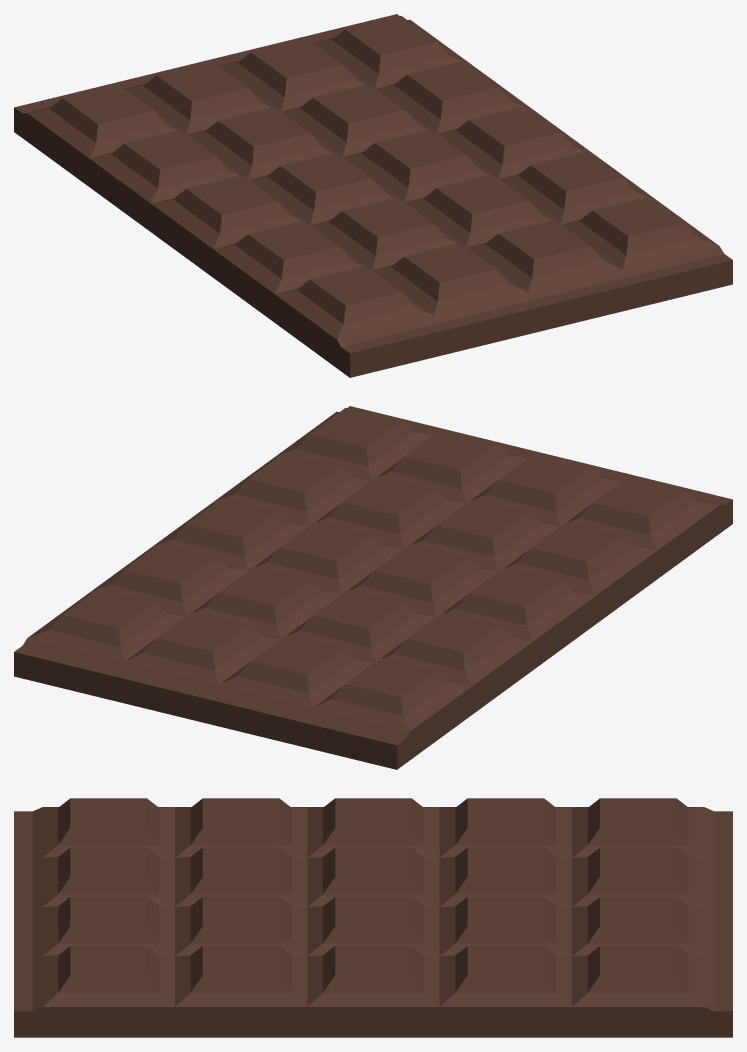
Rendered from food-ChocolateBar.glb.
The picture shows the model from 3 angles, top to bottom: view 1: azimuth 30°, elevation 25°; view 2: azimuth 150°, elevation 25°; view 3: azimuth 270°, elevation 25°; orthographic projection. The views are drawn at different scales.
Visible parts, largest first — view 1: ChocolateBar; view 2: ChocolateBar; view 3: ChocolateBar.
Part boxes in pixels (x1,y1,x2,y2): ChocolateBar: (14,14,732,377); ChocolateBar: (14,406,732,769); ChocolateBar: (14,798,732,1037).
Bounding box in the file's own units: 0.5753 × 0.0683 × 0.8742.
